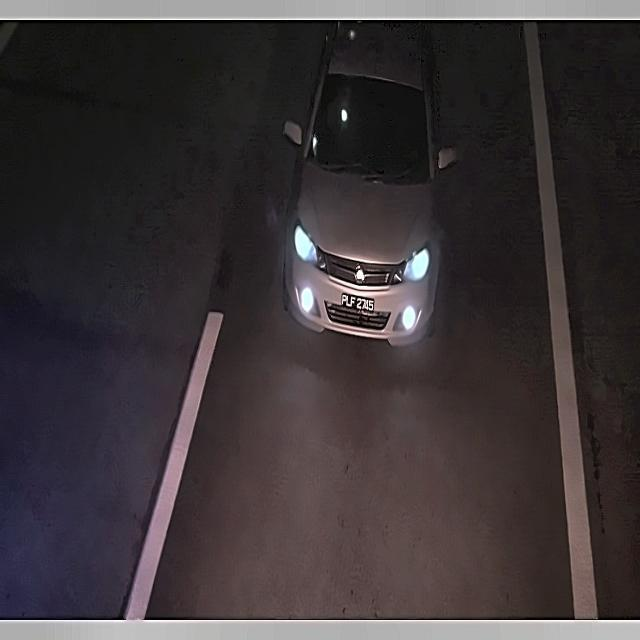car: (335, 285, 379, 320)
